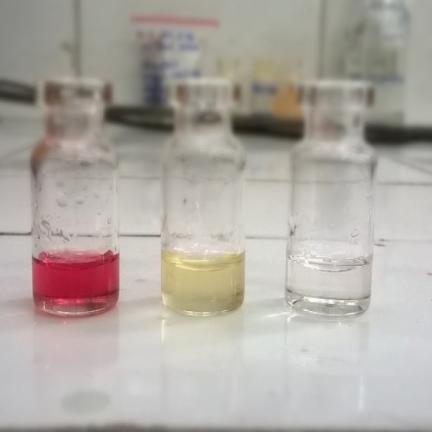container: (285, 81, 376, 316), (31, 78, 119, 314), (161, 78, 246, 315)
fluid: (33, 254, 119, 311), (161, 256, 245, 312), (288, 259, 370, 316)
fluid-surface: (287, 251, 372, 268), (164, 252, 241, 266), (33, 249, 118, 261)
